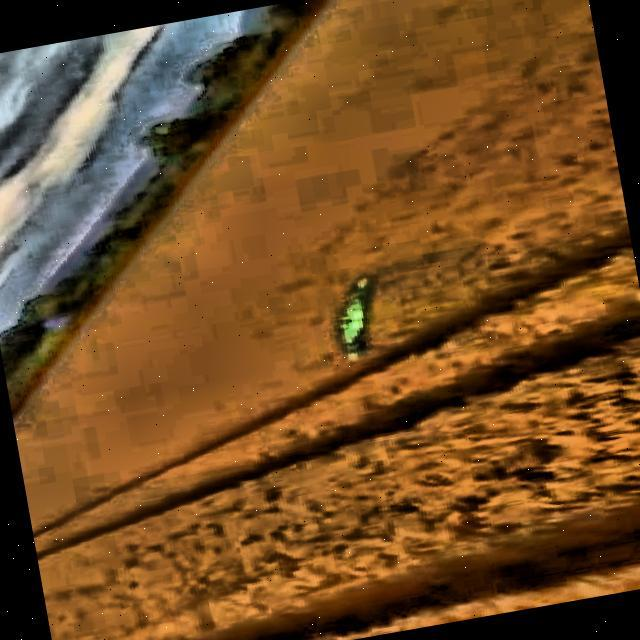iha: (341, 280, 354, 335)
